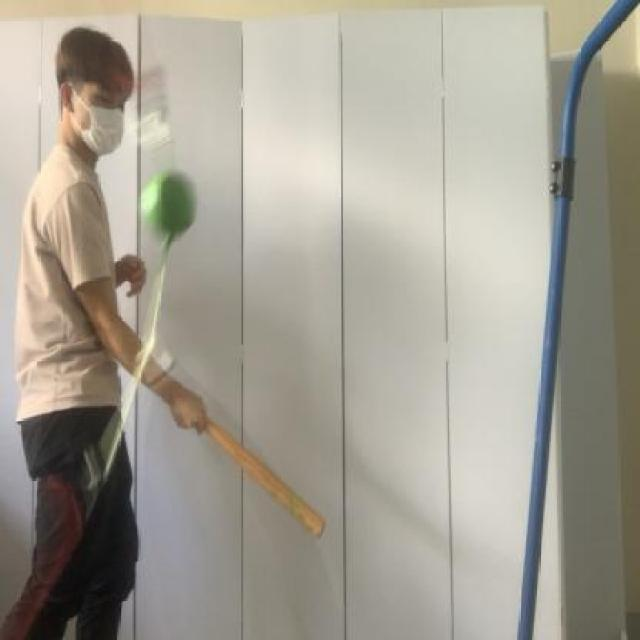baseball: (132, 159, 205, 258)
